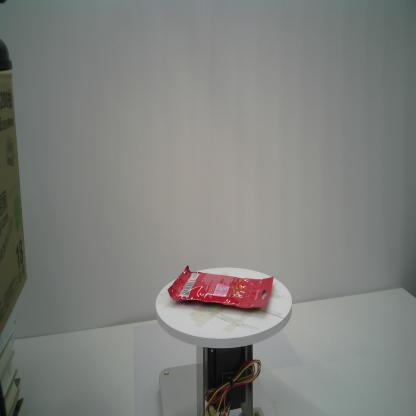Candy: (167, 264, 274, 309)
